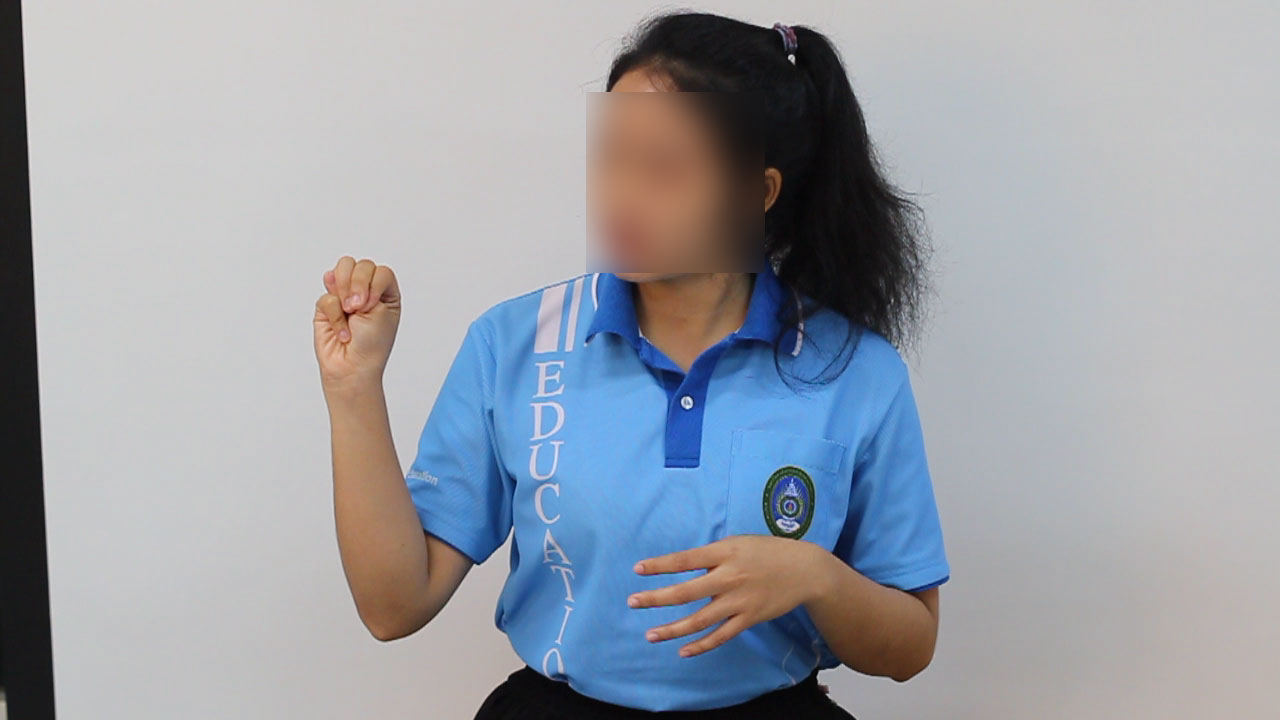mor: (301, 244, 413, 397)
